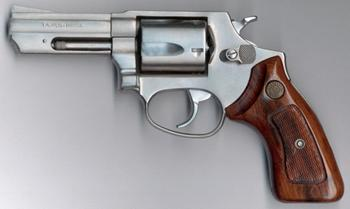Arma Real: (6, 5, 347, 203)
